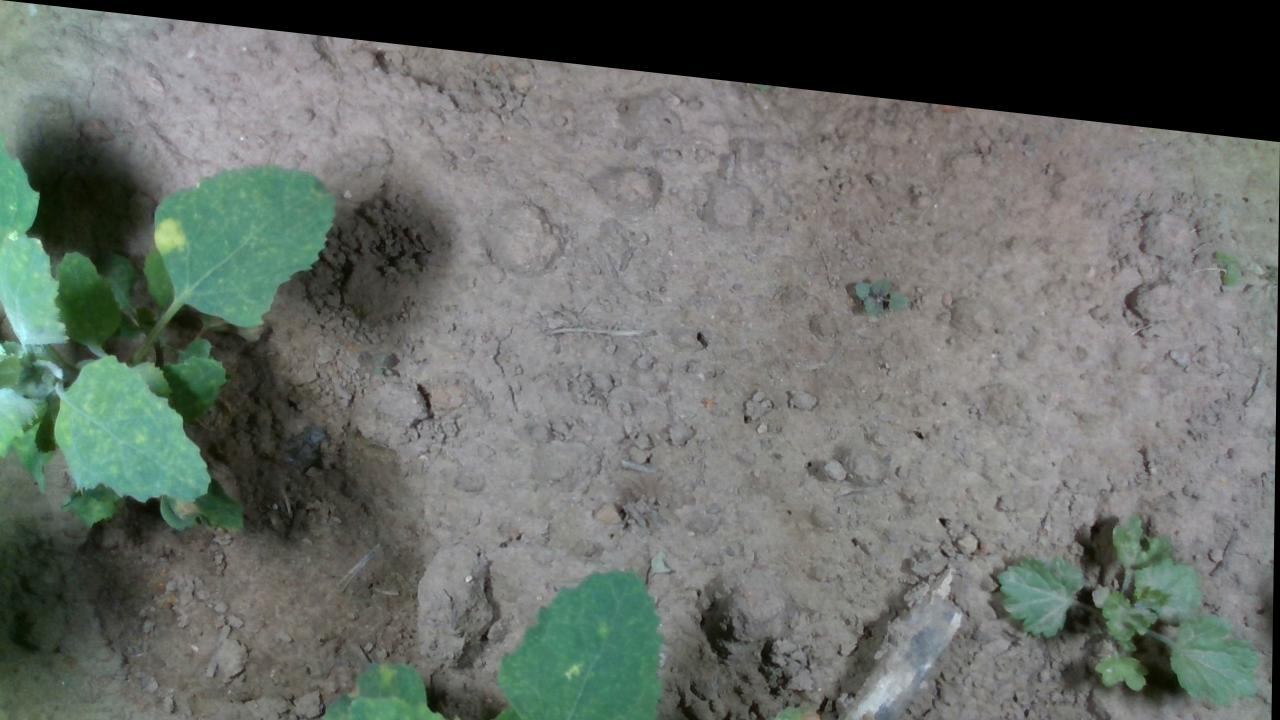weed: (845, 248, 908, 302)
